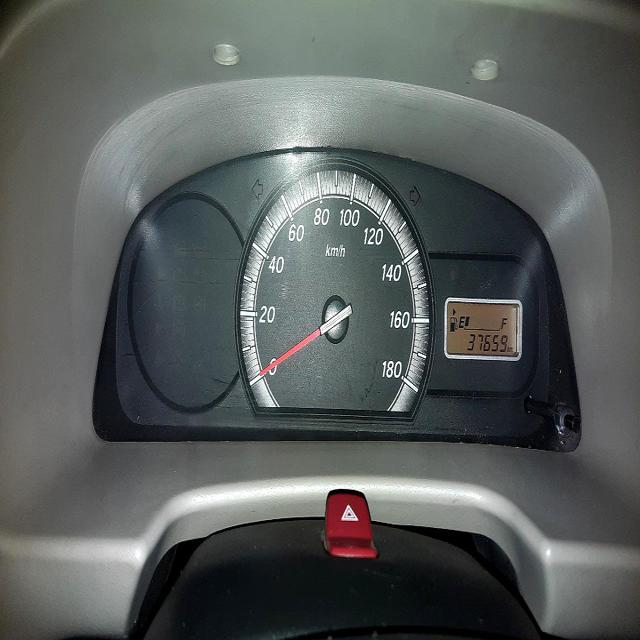odometer: (464, 328, 508, 357)
